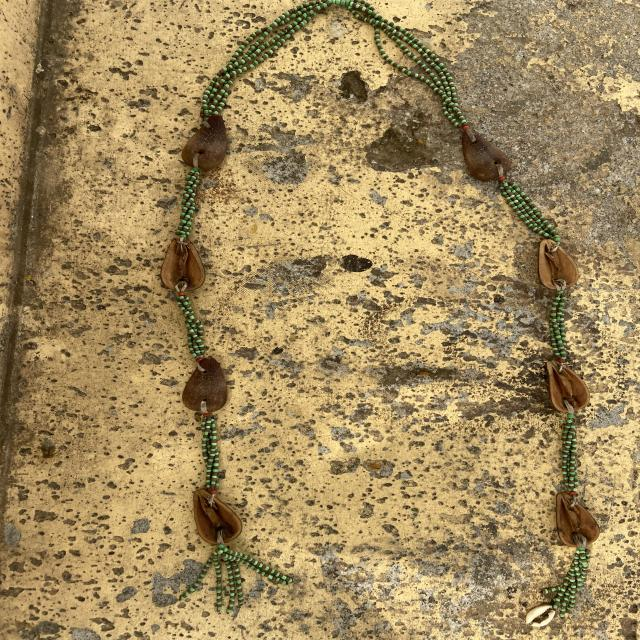facedown: (452, 124, 518, 186), (177, 112, 236, 174), (177, 354, 234, 418)
faceup: (181, 486, 246, 544), (548, 486, 603, 551), (541, 355, 597, 416), (157, 234, 211, 297), (532, 233, 584, 298)
